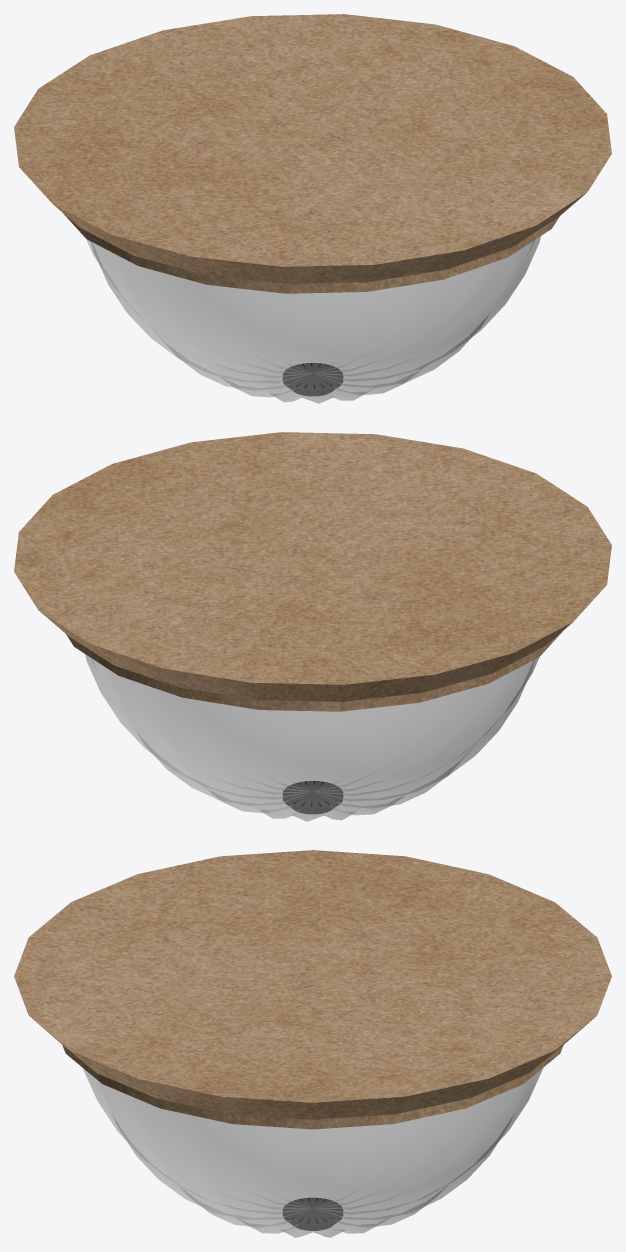
The model's file is lampara_techo.fbx.
The picture shows the model from 3 angles, top to bottom: view 1: azimuth 30°, elevation 25°; view 2: azimuth 150°, elevation 25°; view 3: azimuth 270°, elevation 25°; orthographic projection.
Visible parts, largest first — view 1: LamparaTecho; view 2: LamparaTecho; view 3: LamparaTecho.
Part boxes in pixels (bbox=[...]): LamparaTecho: bbox=[14, 14, 611, 403]; LamparaTecho: bbox=[14, 432, 611, 821]; LamparaTecho: bbox=[14, 850, 611, 1237].
Size of the model in its own units: 23.97 by 11.22 by 23.97.
3 materials, 2 textured.
